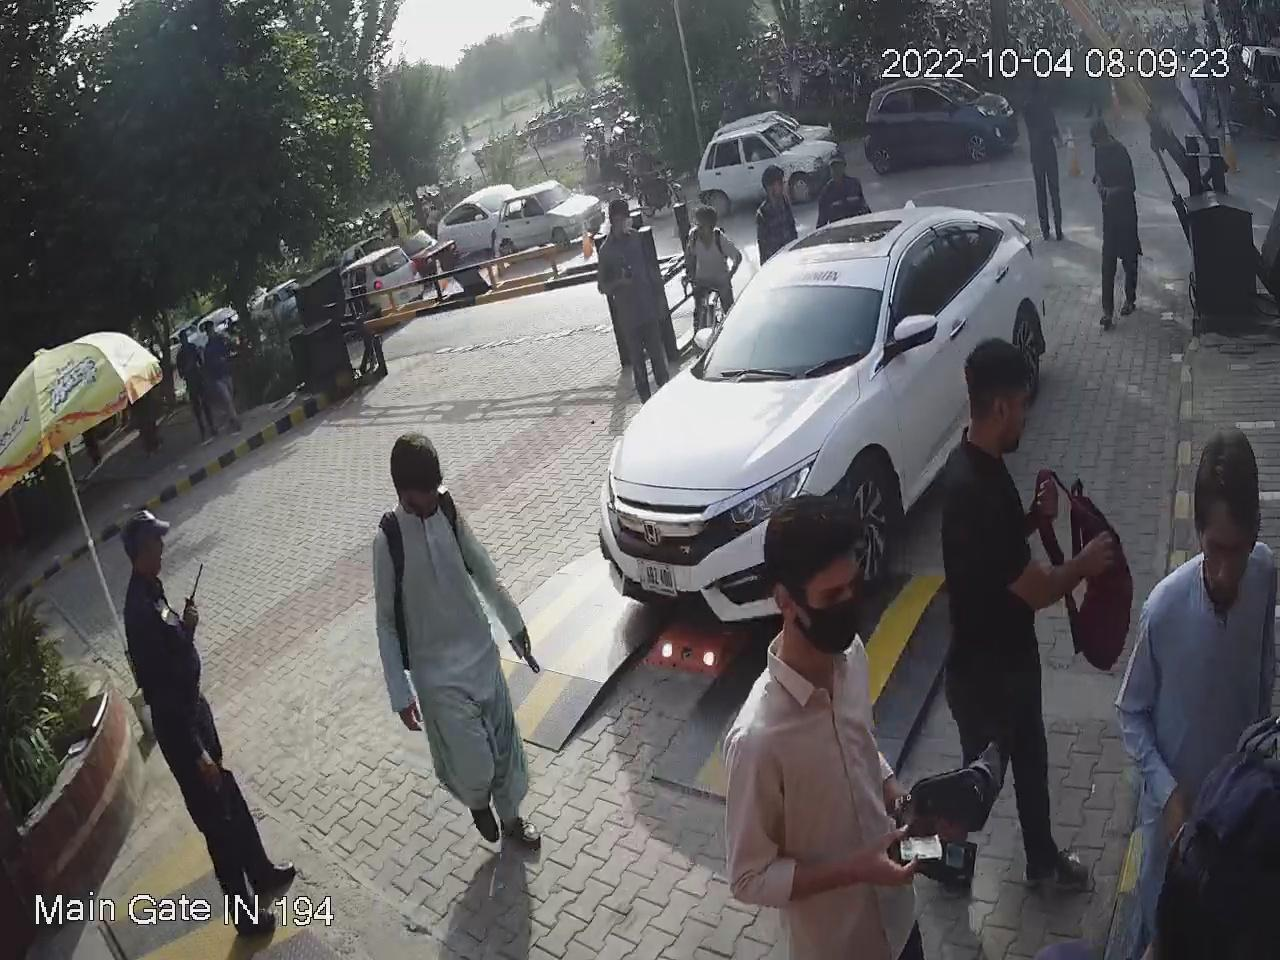windshield: (697, 242, 898, 375)
